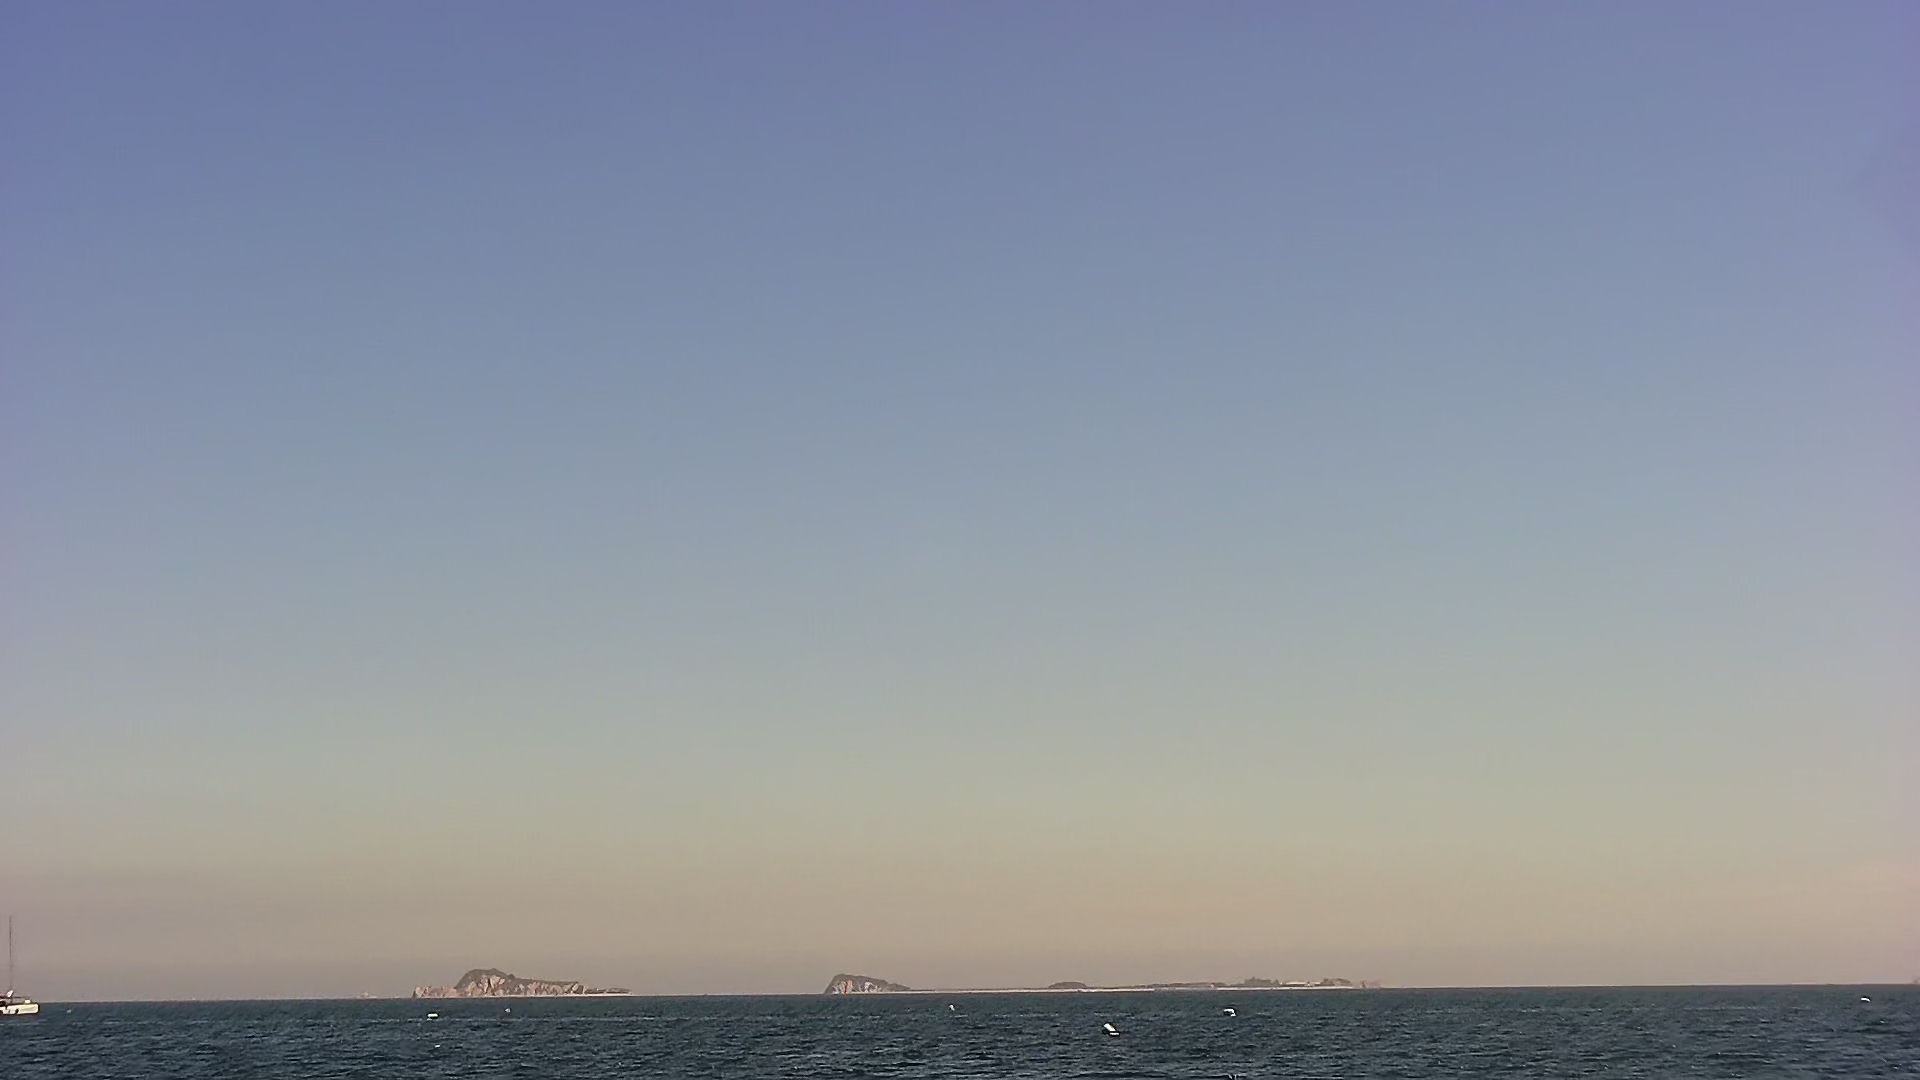boat: (1, 919, 54, 1019)
rock: (423, 967, 620, 993), (820, 963, 913, 990), (1035, 971, 1102, 990)
rubbish: (1222, 992, 1251, 1018), (1098, 1018, 1138, 1033)
